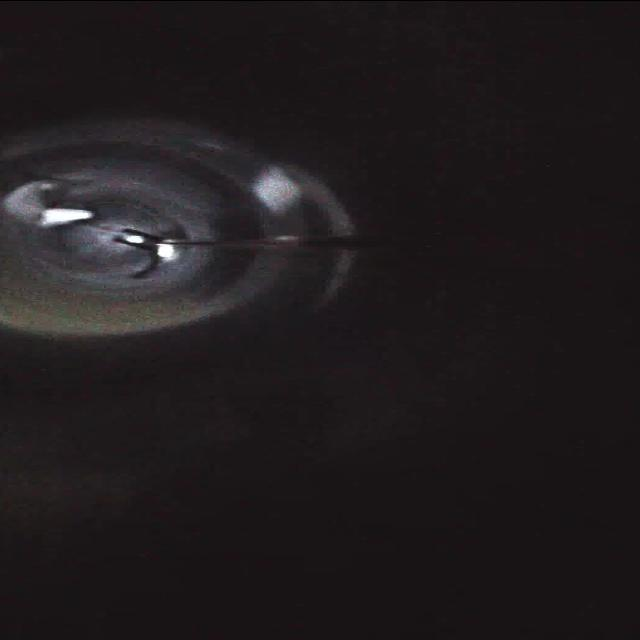impurity: (34, 202, 100, 230)
